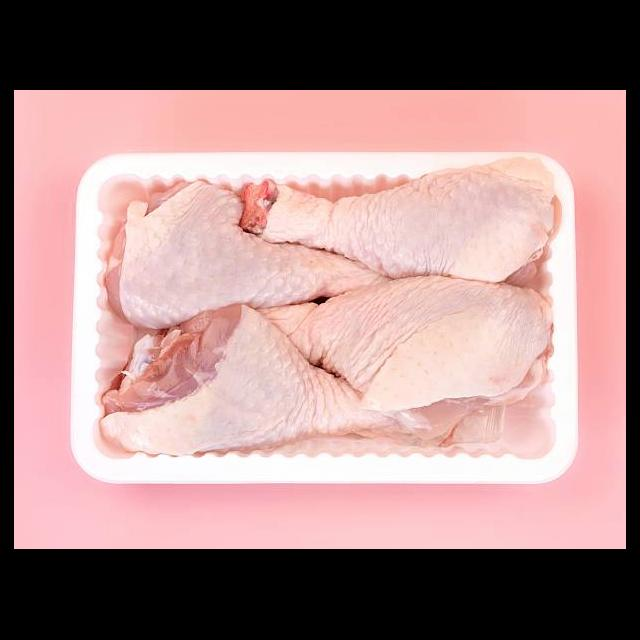chicken: (101, 300, 431, 454), (257, 272, 556, 414), (102, 182, 390, 326), (236, 158, 565, 284)
